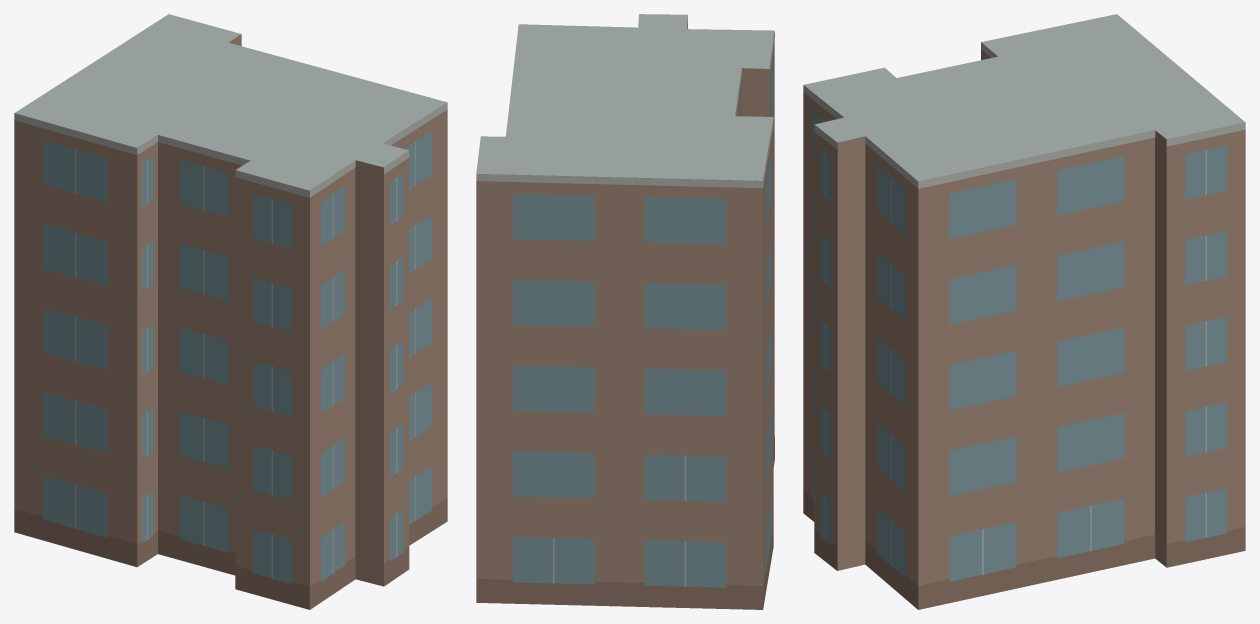
Rendered from survey-upis-32841013.glb.
The picture shows the model from 3 angles, left to right: view 1: azimuth 30°, elevation 25°; view 2: azimuth 150°, elevation 25°; view 3: azimuth 270°, elevation 25°; orthographic projection. The views are drawn at different scales.
Parts seen in each view (by area): view 1: survey-upis-32841013.tmp; view 2: survey-upis-32841013.tmp; view 3: survey-upis-32841013.tmp.
Part boxes in pixels (x1=…): survey-upis-32841013.tmp: x1=14, y1=14, x2=447, y2=609; survey-upis-32841013.tmp: x1=476, y1=14, x2=774, y2=609; survey-upis-32841013.tmp: x1=803, y1=14, x2=1245, y2=609.
Size of the model in its own units: 12 by 14.3 by 13.39.
